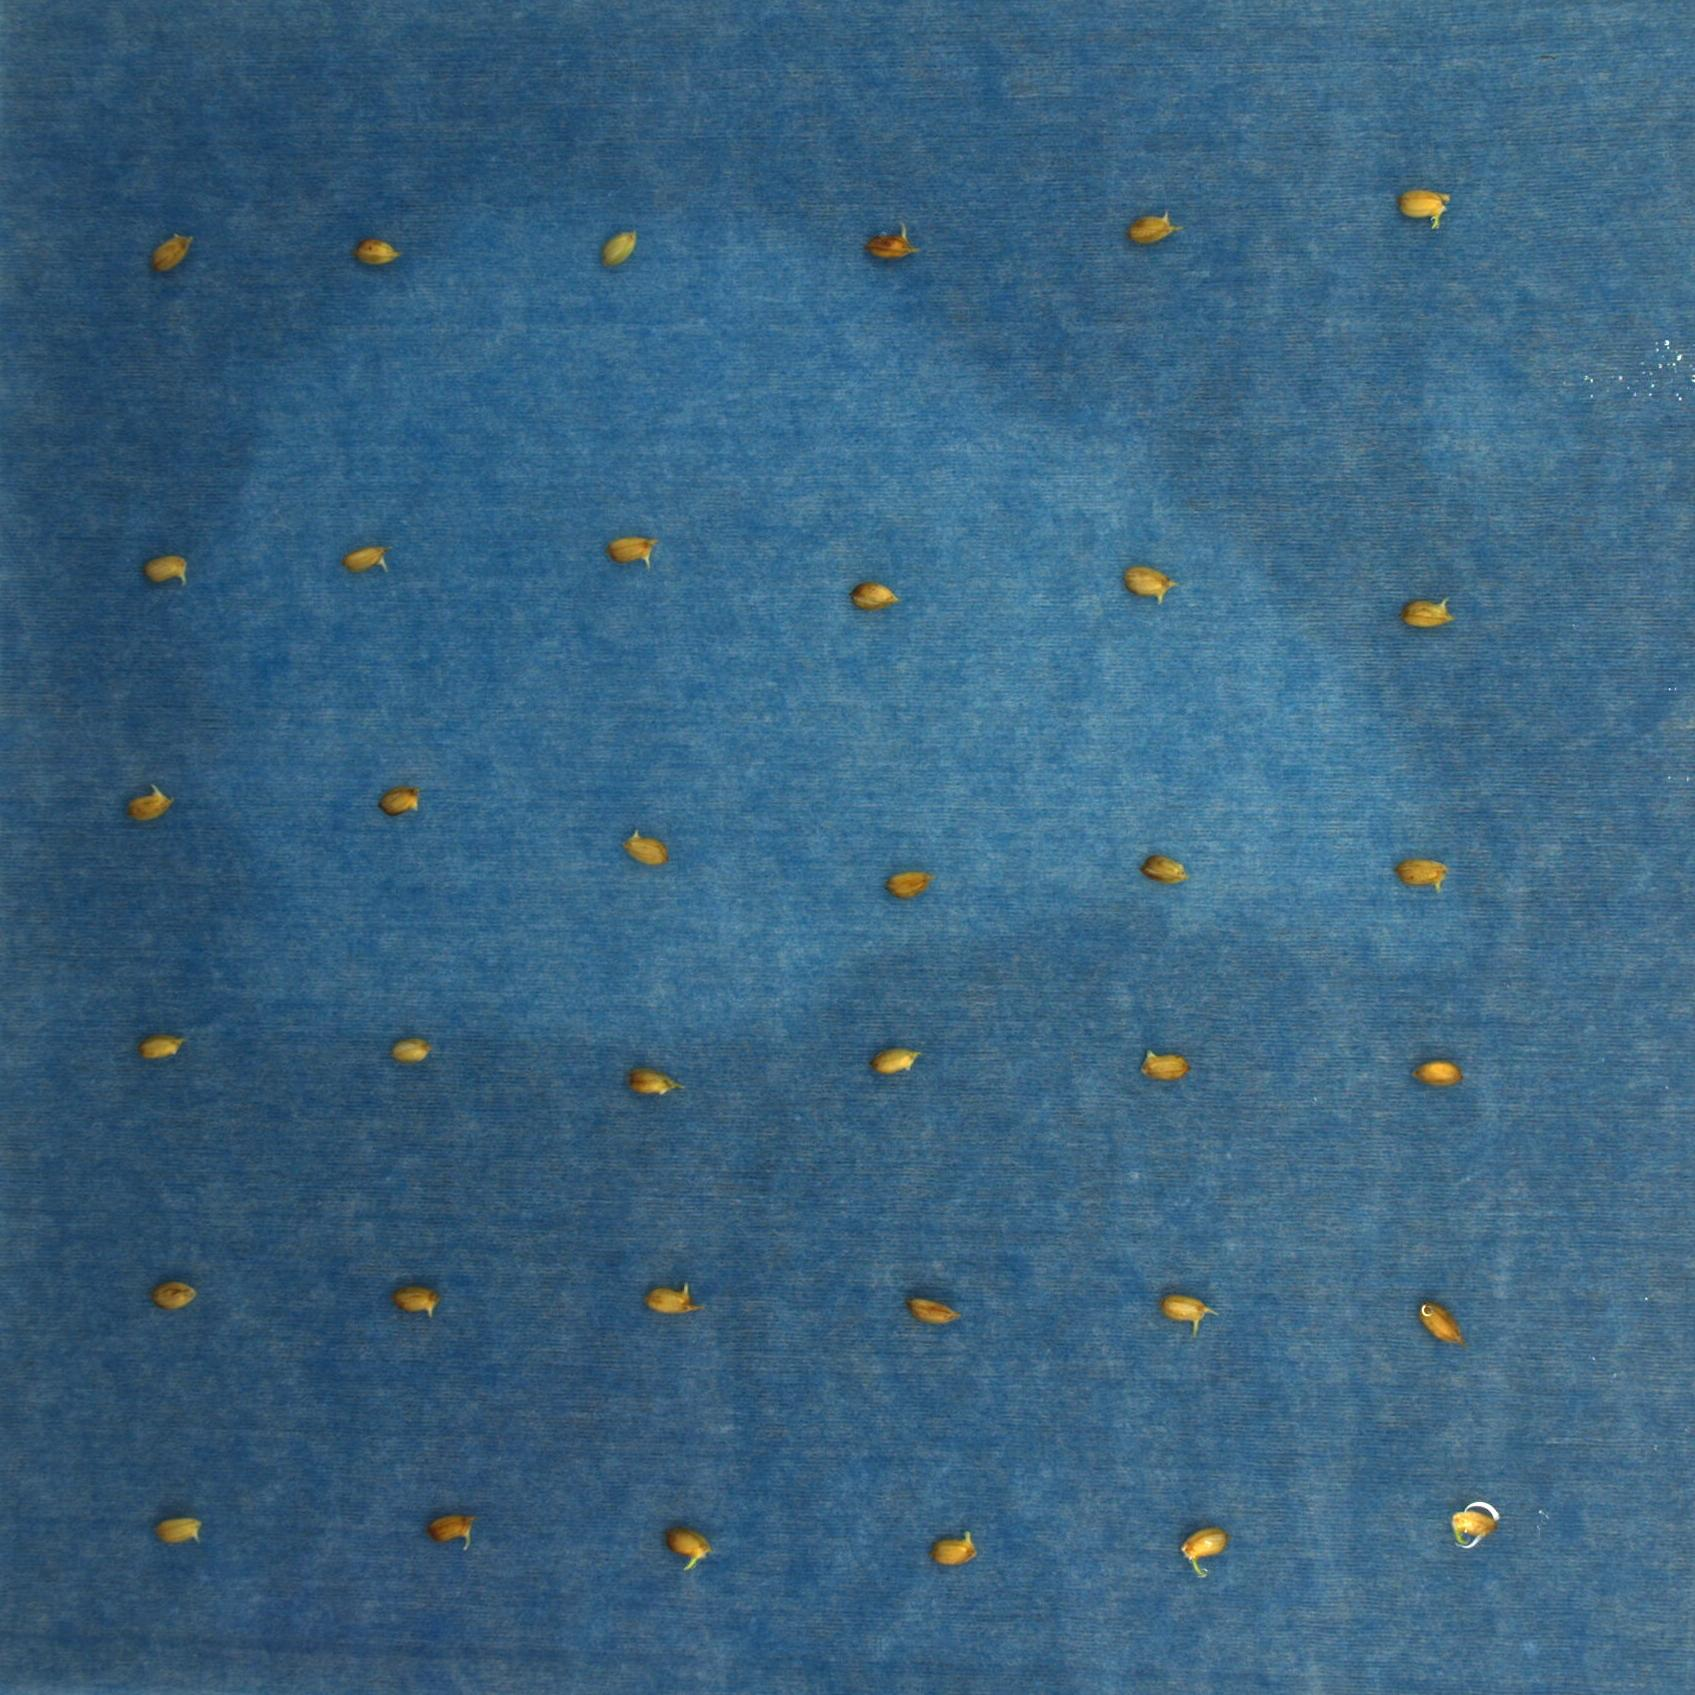not sprout: (1414, 1298, 1467, 1350), (1121, 208, 1184, 251), (1392, 185, 1451, 231), (860, 224, 920, 267), (1121, 563, 1180, 605), (1395, 596, 1461, 633), (626, 1063, 689, 1101), (619, 827, 672, 868), (1447, 1506, 1492, 1552), (1156, 1295, 1212, 1332), (144, 231, 191, 275), (1139, 852, 1194, 889), (598, 225, 640, 272), (126, 784, 175, 823), (337, 543, 393, 577), (428, 1512, 480, 1549), (149, 1512, 202, 1548), (905, 1298, 965, 1329), (1139, 1051, 1194, 1085), (1395, 860, 1453, 891), (931, 1530, 976, 1569), (847, 581, 900, 613), (135, 1031, 185, 1065), (643, 1287, 700, 1316), (140, 556, 191, 588), (605, 536, 660, 565), (377, 785, 424, 820), (868, 1048, 920, 1077), (151, 1281, 200, 1312), (1412, 1062, 1464, 1091), (885, 869, 931, 900), (348, 239, 399, 265), (388, 1035, 433, 1065), (393, 1285, 435, 1315)
sprout: (1183, 1523, 1222, 1580), (661, 1527, 714, 1569)
